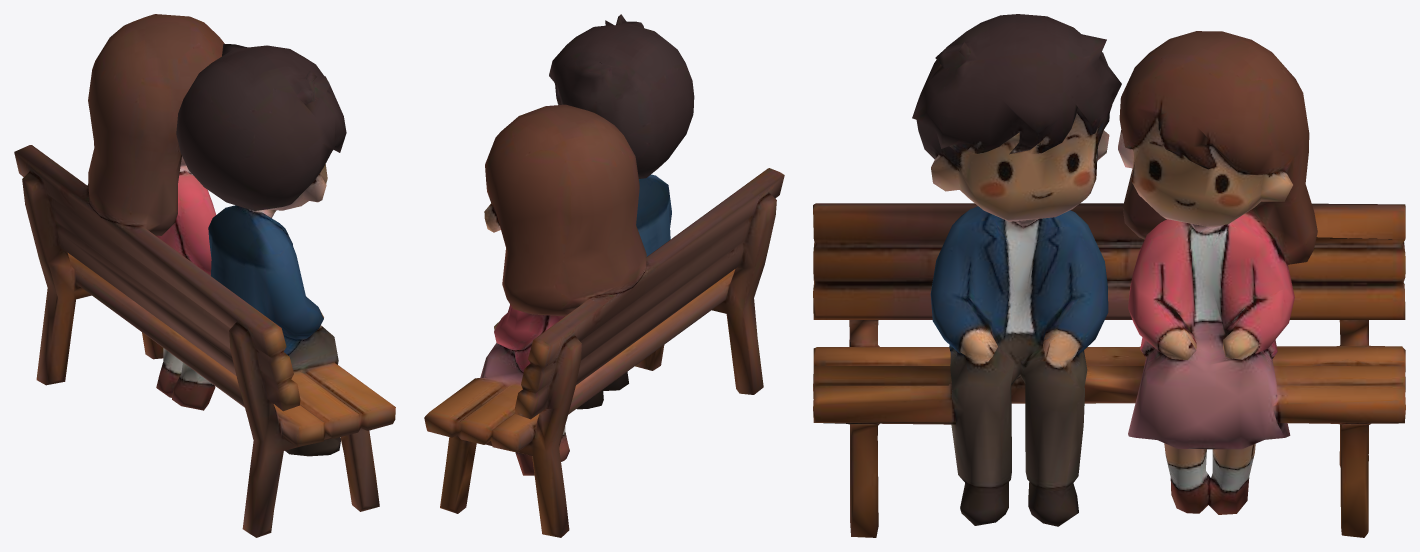
Rendered from demo_bench_chibi.glb.
3 renders of one model, left to right at view 1: azimuth 30°, elevation 25°; view 2: azimuth 150°, elevation 25°; view 3: azimuth 270°, elevation 25°, orthographic. The views are drawn at different scales.
Visible parts, largest first — view 1: tripo_node_930a0c03-bbbc-446d-8302-2e611c77dbe6.001; view 2: tripo_node_930a0c03-bbbc-446d-8302-2e611c77dbe6.001; view 3: tripo_node_930a0c03-bbbc-446d-8302-2e611c77dbe6.001.
Part boxes in pixels (x1=…): tripo_node_930a0c03-bbbc-446d-8302-2e611c77dbe6.001: x1=14, y1=14, x2=395, y2=537; tripo_node_930a0c03-bbbc-446d-8302-2e611c77dbe6.001: x1=424, y1=14, x2=784, y2=537; tripo_node_930a0c03-bbbc-446d-8302-2e611c77dbe6.001: x1=813, y1=14, x2=1405, y2=537.
Size of the model in its own units: 0.3774 by 0.9111 by 0.9964.
1 material, 1 textured.
